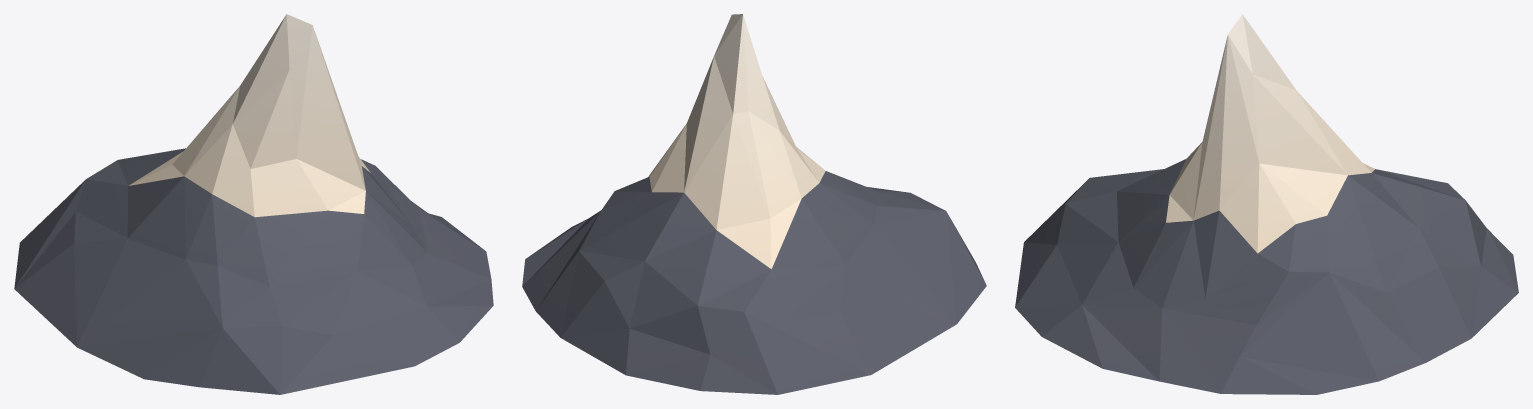
The model's file is Mountain1.fbx.
The picture shows the model from 3 angles, left to right: view 1: azimuth 30°, elevation 25°; view 2: azimuth 150°, elevation 25°; view 3: azimuth 270°, elevation 25°; orthographic projection. The views are drawn at different scales.
Visible parts, largest first — view 1: Mountain1; view 2: Mountain1; view 3: Mountain1.
Part boxes in pixels (x1,y1,x2,y2): Mountain1: (14, 14, 493, 394); Mountain1: (522, 14, 986, 394); Mountain1: (1015, 14, 1518, 394).
Bounding box in the file's own units: 2563 × 1661 × 2661.
